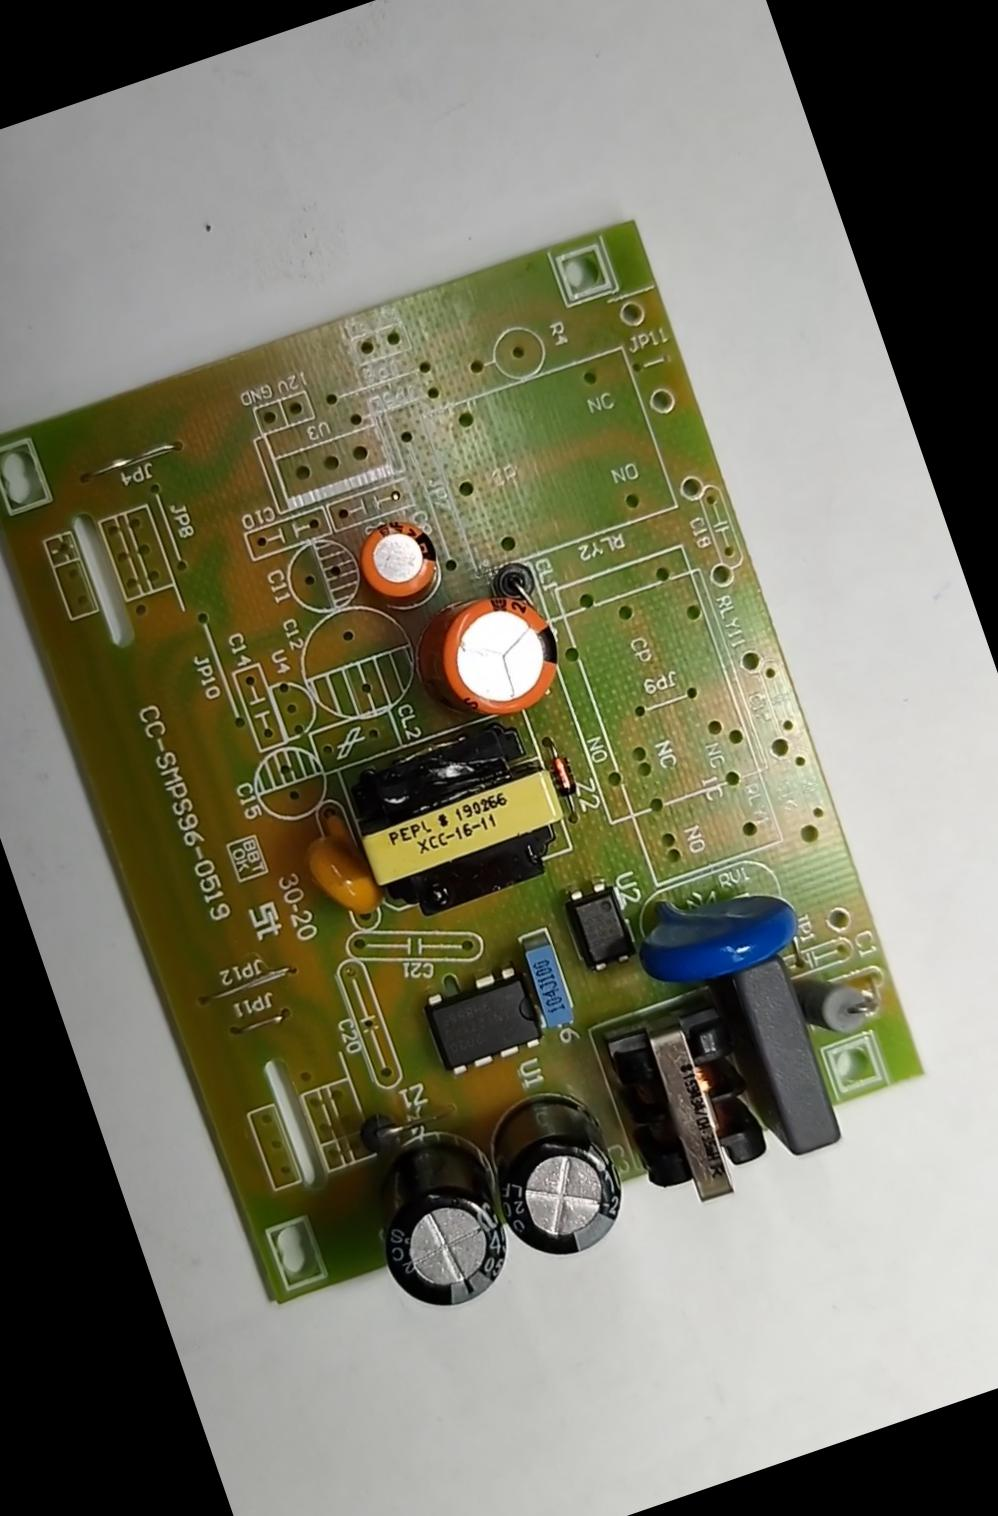Cap1: (418, 575, 578, 735)
Cap2: (348, 508, 450, 614)
Cap3: (458, 1067, 638, 1280)
Cap4: (343, 1114, 524, 1330)
MOSFET: (408, 953, 551, 1085)
Mov: (617, 858, 816, 1008)
Resistor: (791, 956, 881, 1050)
Transformer: (332, 706, 581, 935), (597, 996, 782, 1221)
